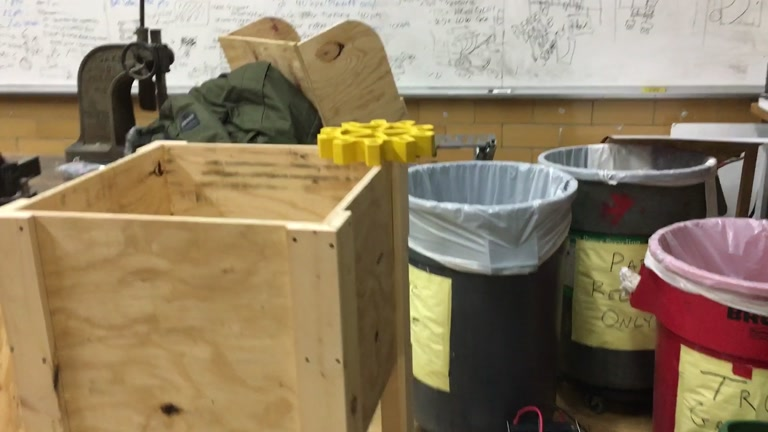gear: (317, 118, 438, 166)
